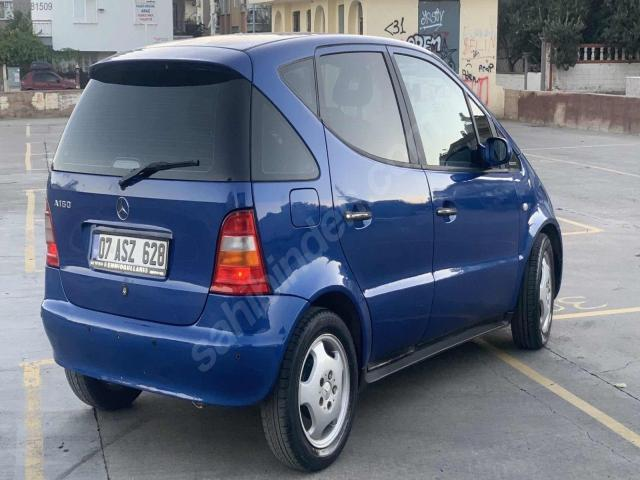plaka: (90, 227, 170, 278)
